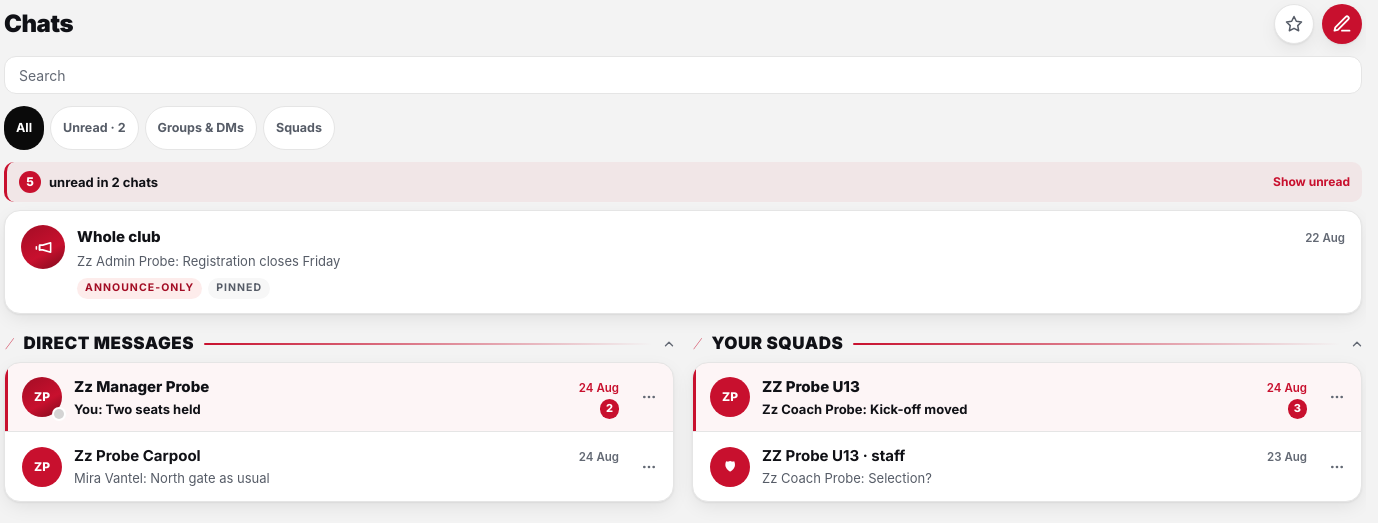
Scenario: the member chat home › search flattens: no hero, no section titles, just the matches
Expected: the link with test id "chat-hero" is shown, [4,210,1362,314]
Type "carpool" into the search field named "Search chats" at x=683, y=75, box [4,56,1362,94]
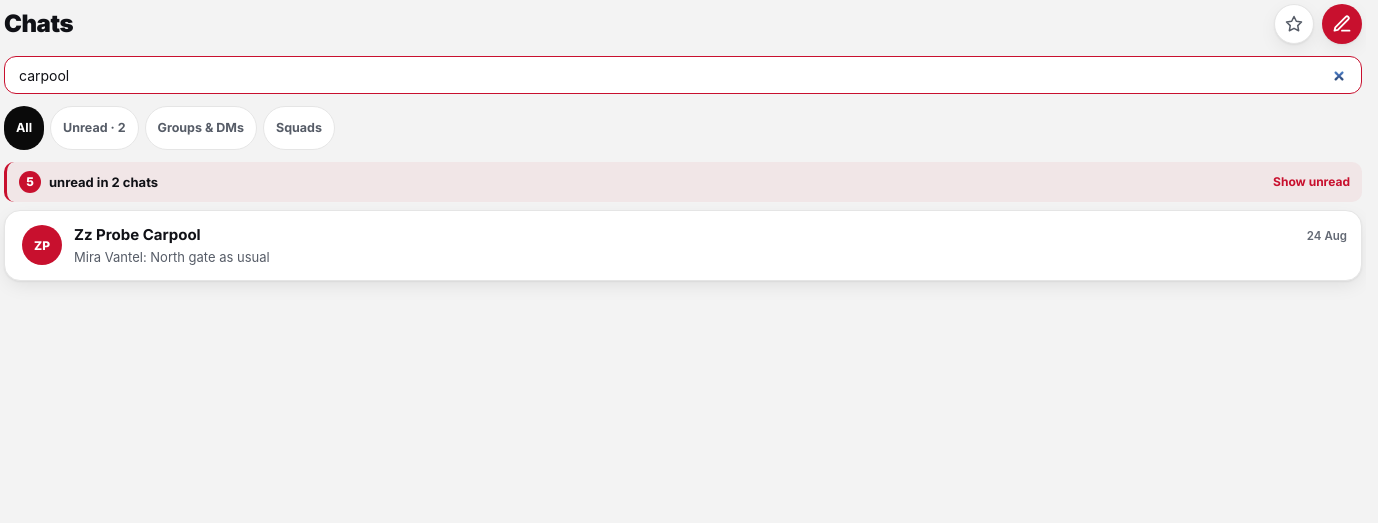
Result: the link with test id "chat-hero" is gone
Result: the button "Your squads" is gone
Result: the number of links with test id "chat-row" is 1 at [22,225,1347,265]
